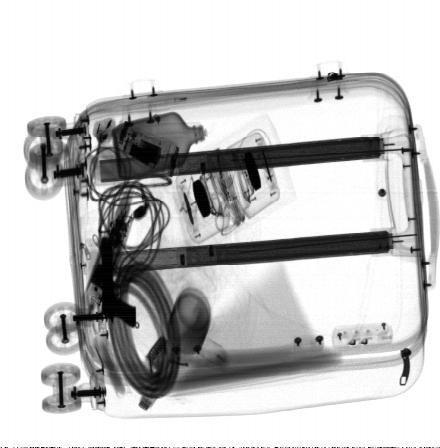Gun: (99, 237, 137, 330)
